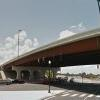Bridge: (5, 31, 98, 76)
